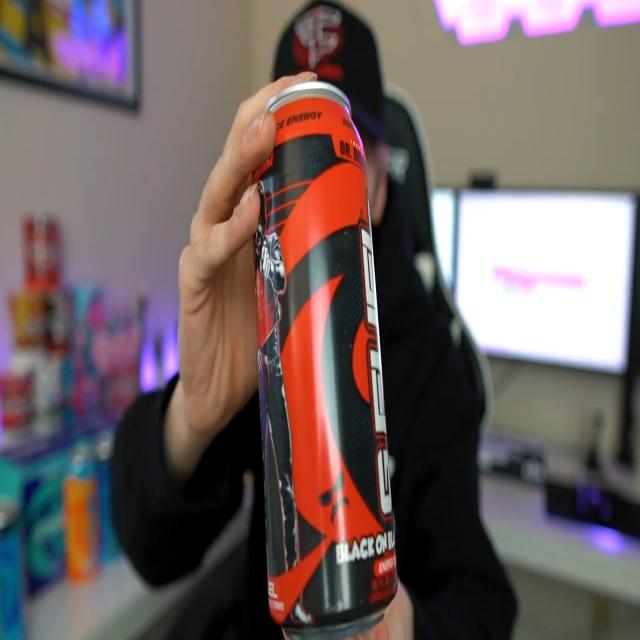can: (250, 81, 400, 640)
